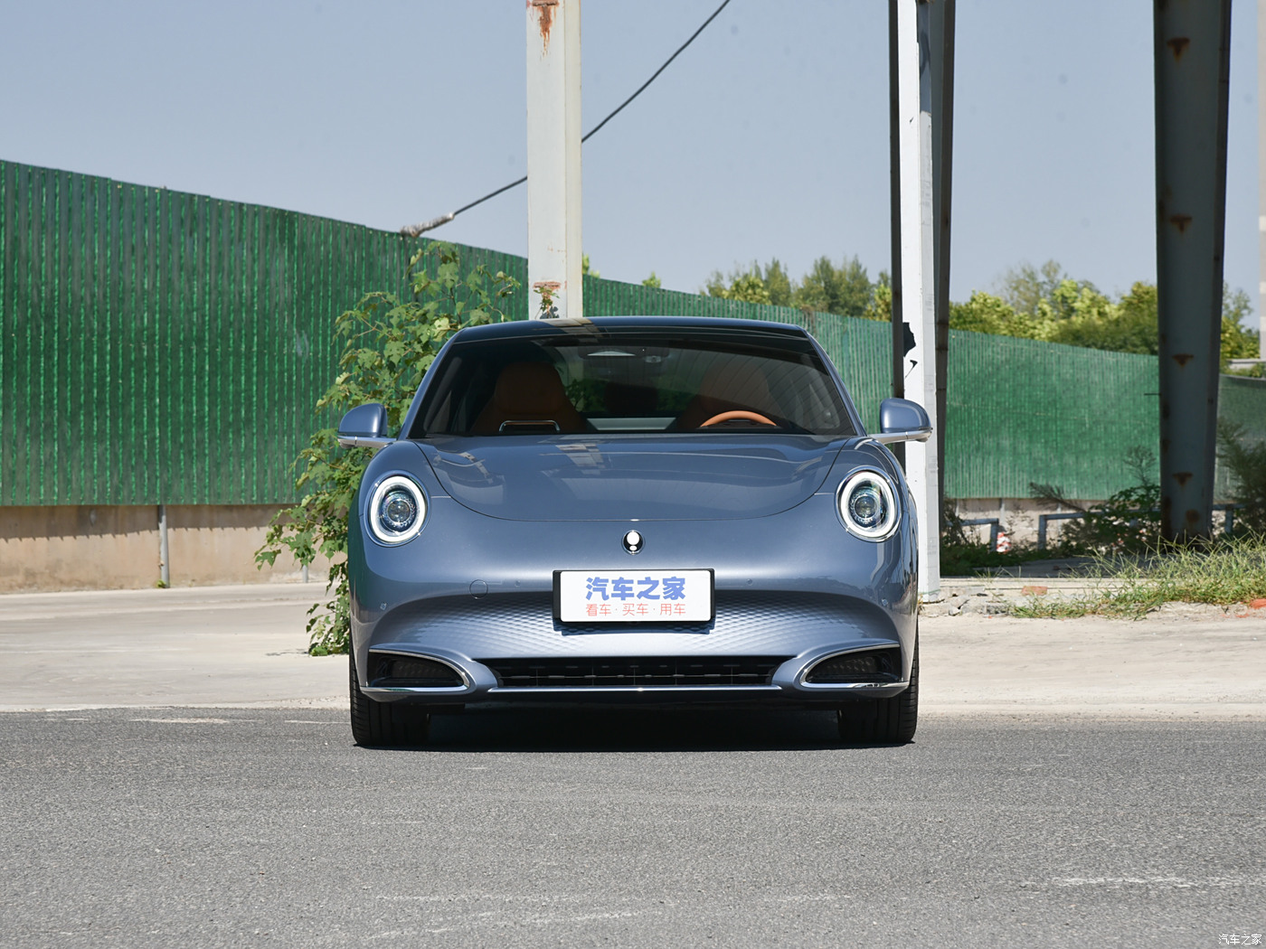ORA: (623, 531, 644, 554)
